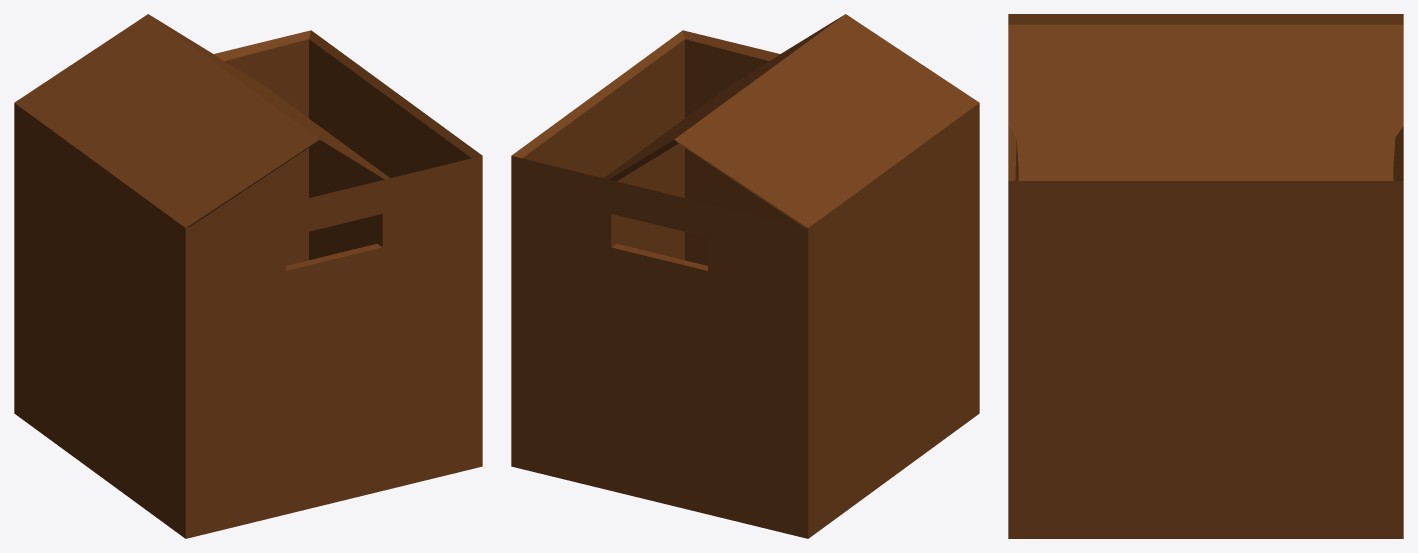
Rendered from Cardboard_box.fbx.
The picture shows the model from 3 angles, left to right: view 1: azimuth 30°, elevation 25°; view 2: azimuth 150°, elevation 25°; view 3: azimuth 270°, elevation 25°; orthographic projection. The views are drawn at different scales.
Parts seen in each view (by area): view 1: Cardboard_box; view 2: Cardboard_box; view 3: Cardboard_box.
Boxes of the visible parts, box(x1,y1,x2,y2) form: Cardboard_box: box(14, 14, 482, 538); Cardboard_box: box(511, 14, 979, 538); Cardboard_box: box(1008, 14, 1403, 538).
Size of the model in its own units: 32.96 by 38.9 by 32.96.
